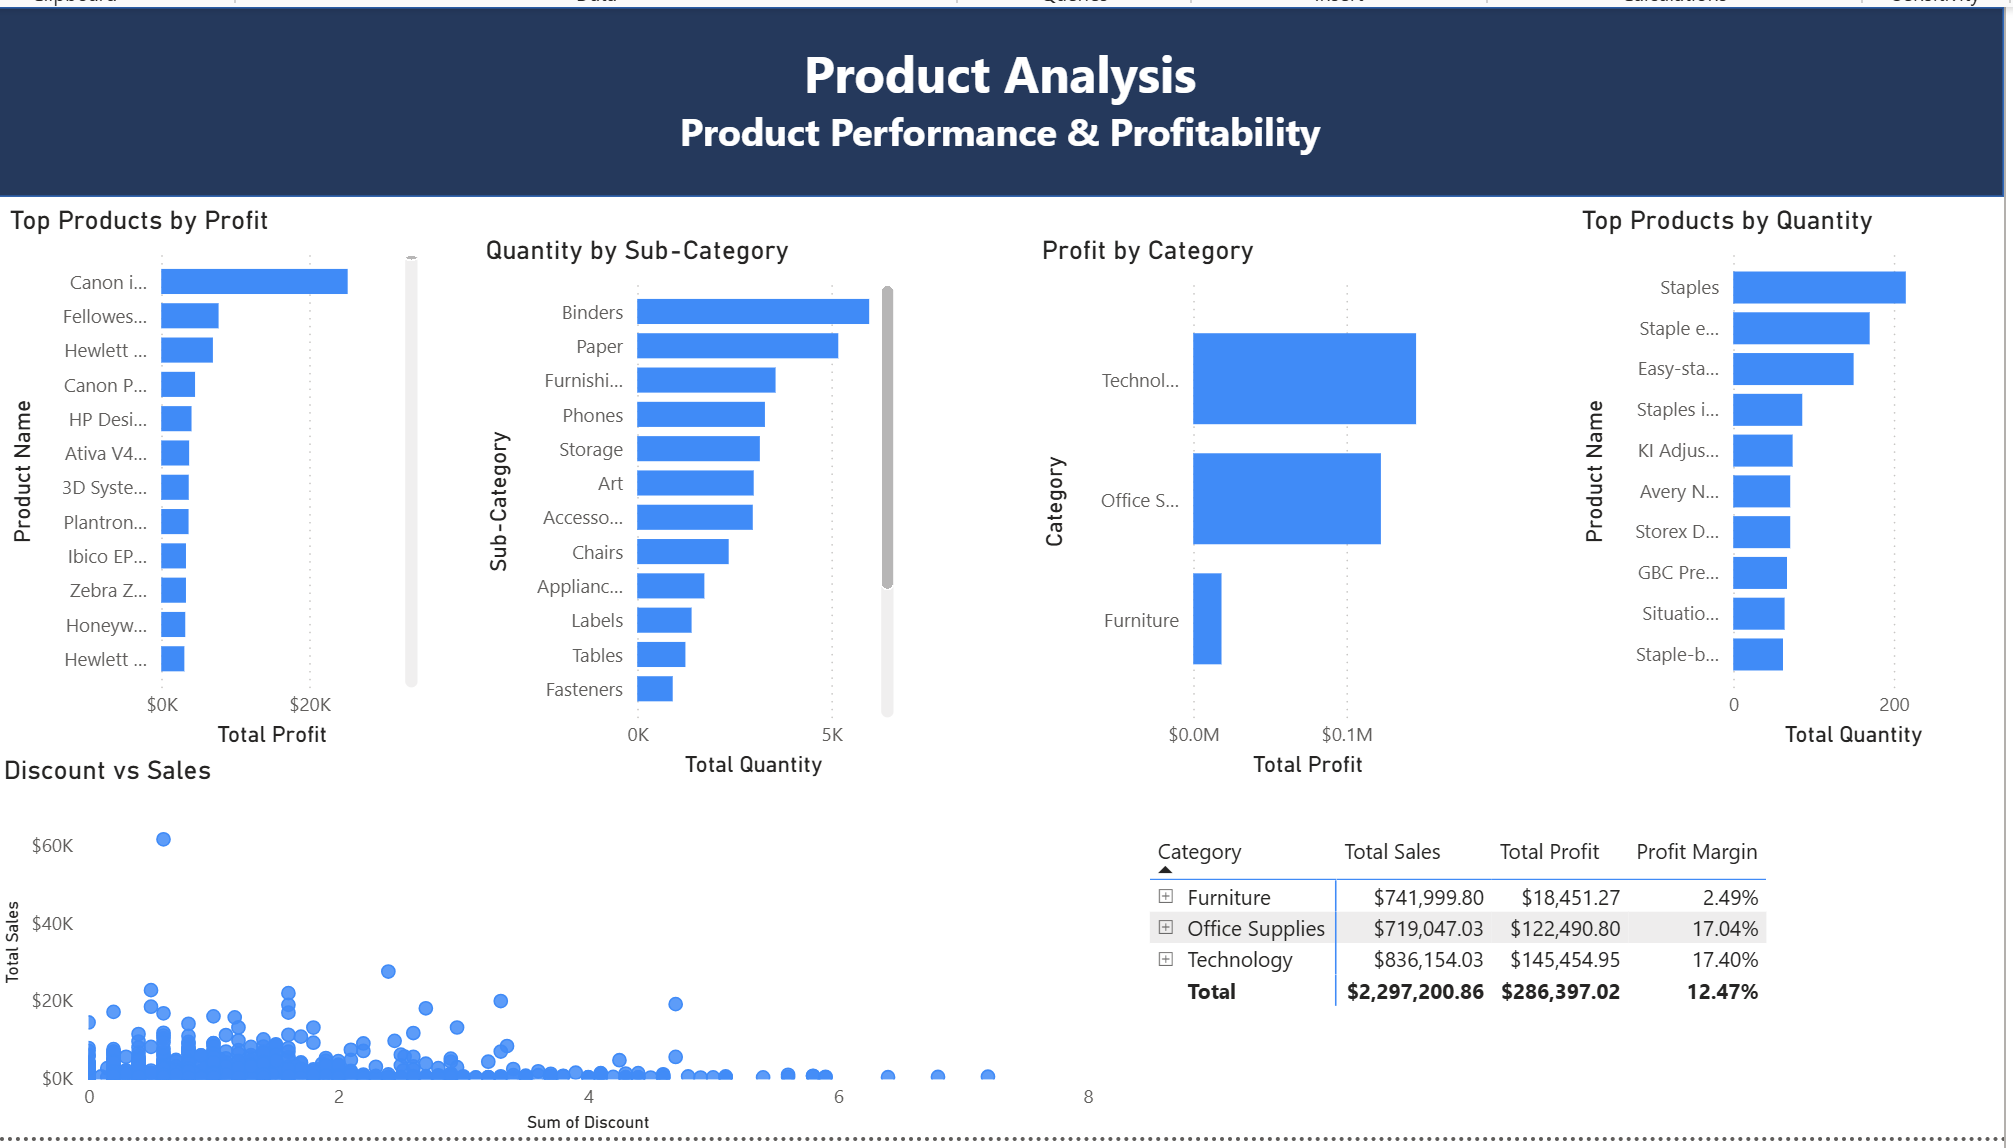

Layout of this report page (visuals, bound fields, positions):
{"tool":"powerbi","page":{"name":"Product Analysis","canvas":[1280,720],"ordinal":2},"visuals":[{"type":"clusteredBarChart","title":"Top Products by Profit","fields":{"Category":["Orders.Product Name"],"Y":["Measures (2).Total Profit"]},"box":[3.8,126.9,270,350],"z":0},{"type":"scatterChart","title":"Discount vs Sales","fields":{"Category":["Orders.Product Name"],"X":["Sum(Orders.Discount)"],"Y":["Measures (2).Total Sales"]},"box":[0,476.8,705,244.8],"z":1000},{"type":"clusteredBarChart","title":"Quantity by Sub-Category","fields":{"Category":["Orders.Sub-Category"],"Y":["Measures (2).Total Quantity"]},"box":[307.3,144.7,270,350],"z":2000},{"type":"clusteredBarChart","title":"Profit by Category","fields":{"Category":["Orders.Category"],"Y":["Measures (2).Total Profit"]},"box":[661.7,144.7,270,350],"z":3000},{"type":"clusteredBarChart","title":"Top Products by Quantity","fields":{"Category":["Orders.Product Name"],"Y":["Measures (2).Total Quantity"]},"box":[1005.9,126.9,270,350],"z":4000},{"type":"pivotTable","fields":{"Rows":["Orders.Category","Orders.Sub-Category"],"Values":["Measures (2).Total Sales","Measures (2).Total Profit","Measures (2).Profit Margin"]},"box":[730.5,522.7,552,201.4],"z":5000},{"type":"shape","box":[0,0,1280,121.1],"z":6000},{"type":"textbox","box":[318.7,15.3,642.5,91.8],"z":7000}]}

Visuals, with their boxes on the page's 1280x720 design canvas (x1, y1, x2, y2). These are canvas units, not pixel positions in the 2013x1148 screenshot, which may show the page scaled, cropped or inside an application window:
"Top Products by Profit" clusteredBarChart: (left=4, top=127, right=274, bottom=477)
"Discount vs Sales" scatterChart: (left=0, top=477, right=705, bottom=722)
"Quantity by Sub-Category" clusteredBarChart: (left=307, top=145, right=577, bottom=495)
"Profit by Category" clusteredBarChart: (left=662, top=145, right=932, bottom=495)
"Top Products by Quantity" clusteredBarChart: (left=1006, top=127, right=1276, bottom=477)
pivotTable - Orders.Category x Orders.Sub-Category: (left=730, top=523, right=1282, bottom=724)
shape: (left=0, top=0, right=1280, bottom=121)
textbox: (left=319, top=15, right=961, bottom=107)
